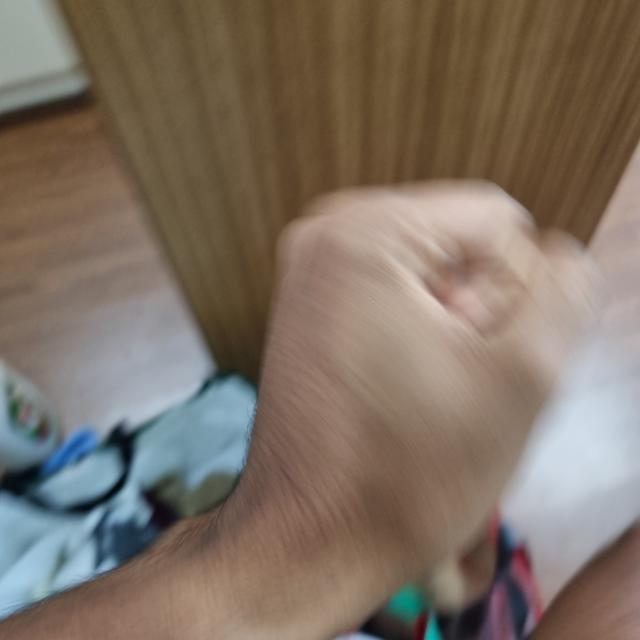Rock: (244, 184, 639, 639)
